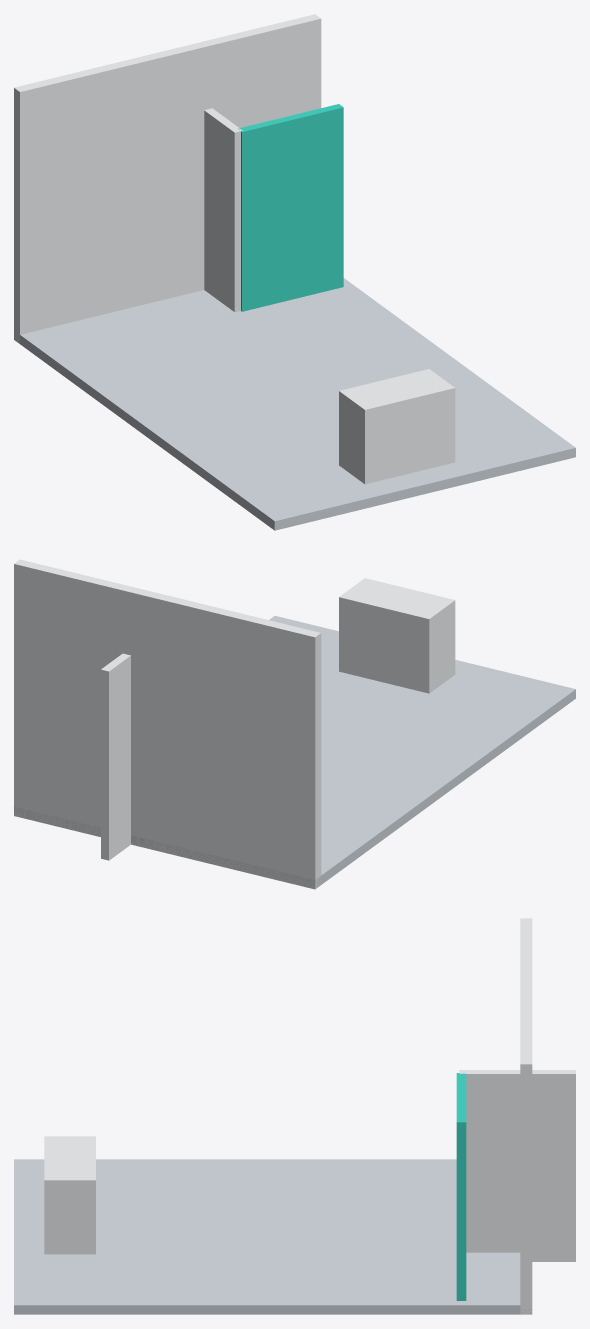
3 views of the same model, one above another, from view 1: azimuth 30°, elevation 25°; view 2: azimuth 150°, elevation 25°; view 3: azimuth 270°, elevation 25° (orthographic).
Visible parts, largest first — view 1: Exhibition Booth Concept; view 2: Exhibition Booth Concept; view 3: Exhibition Booth Concept.
Boxes of the visible parts, left/top/right/bottom form: Exhibition Booth Concept: left=14, top=14, right=575, bottom=530; Exhibition Booth Concept: left=14, top=559, right=575, bottom=889; Exhibition Booth Concept: left=14, top=918, right=575, bottom=1314.
Bounding box in the file's own units: 4 × 3.2 × 6.51.
